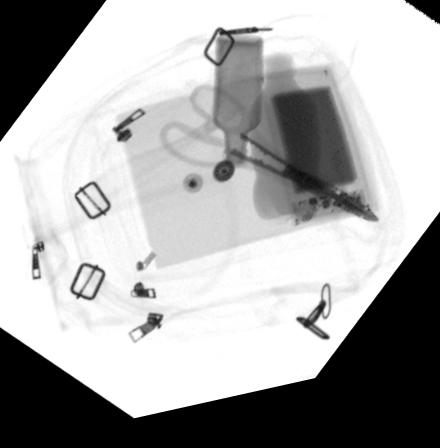Powerbank: (250, 75, 378, 248)
Scissors: (156, 91, 382, 241)
